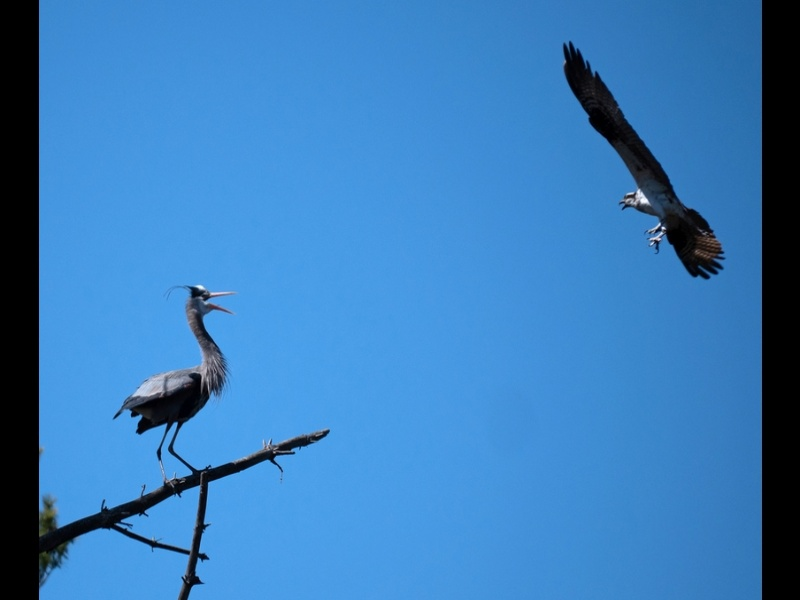heron: (560, 36, 725, 287), (114, 280, 234, 497)
